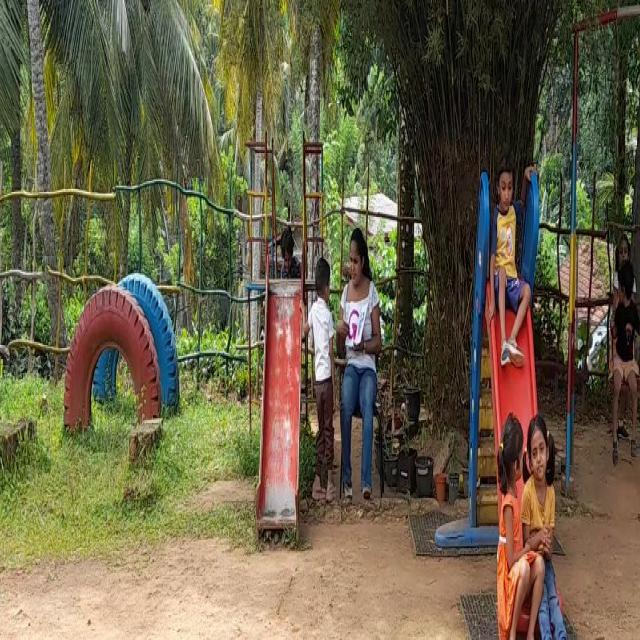adult: (336, 209, 386, 518)
child: (523, 410, 579, 640), (488, 412, 537, 640), (490, 155, 530, 371), (307, 259, 340, 517), (609, 244, 640, 466)
